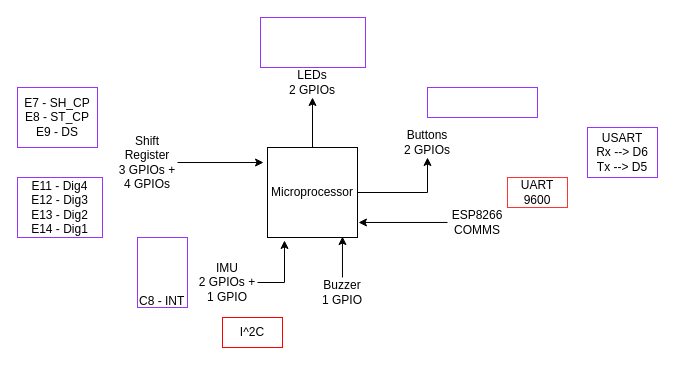
Image size: 675x375. Some labels were removed from this diagram. The centre of each missing label's shape, as x and y in pixels:
"B1 --> Button 1 B0 --> Button 2" goes at pixel 313 42.
"C4 --> Button 1 C5 --> Button 2" goes at pixel 482 102.
"C9 -SDA A8 - SCL" goes at pixel 162 272.
